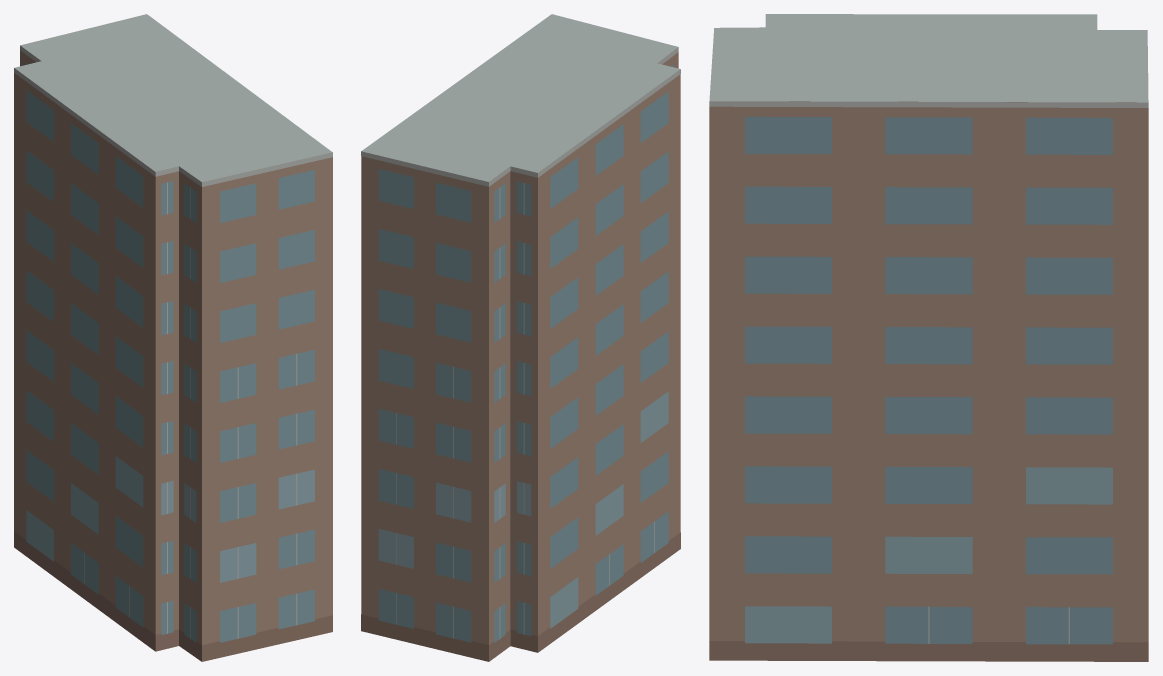
File: survey-upis-32992163.glb
3 views of the same model, side by side, from view 1: azimuth 30°, elevation 25°; view 2: azimuth 150°, elevation 25°; view 3: azimuth 270°, elevation 25° (orthographic). The views are drawn at different scales.
Visible parts, largest first — view 1: survey-upis-32992163.tmp; view 2: survey-upis-32992163.tmp; view 3: survey-upis-32992163.tmp.
Part boxes in pixels (box(x1,y1,x2,y2)): survey-upis-32992163.tmp: box(14, 14, 332, 661); survey-upis-32992163.tmp: box(361, 14, 680, 661); survey-upis-32992163.tmp: box(709, 14, 1148, 661).
Bounding box in the file's own units: 8.29 × 24.4 × 17.37.
